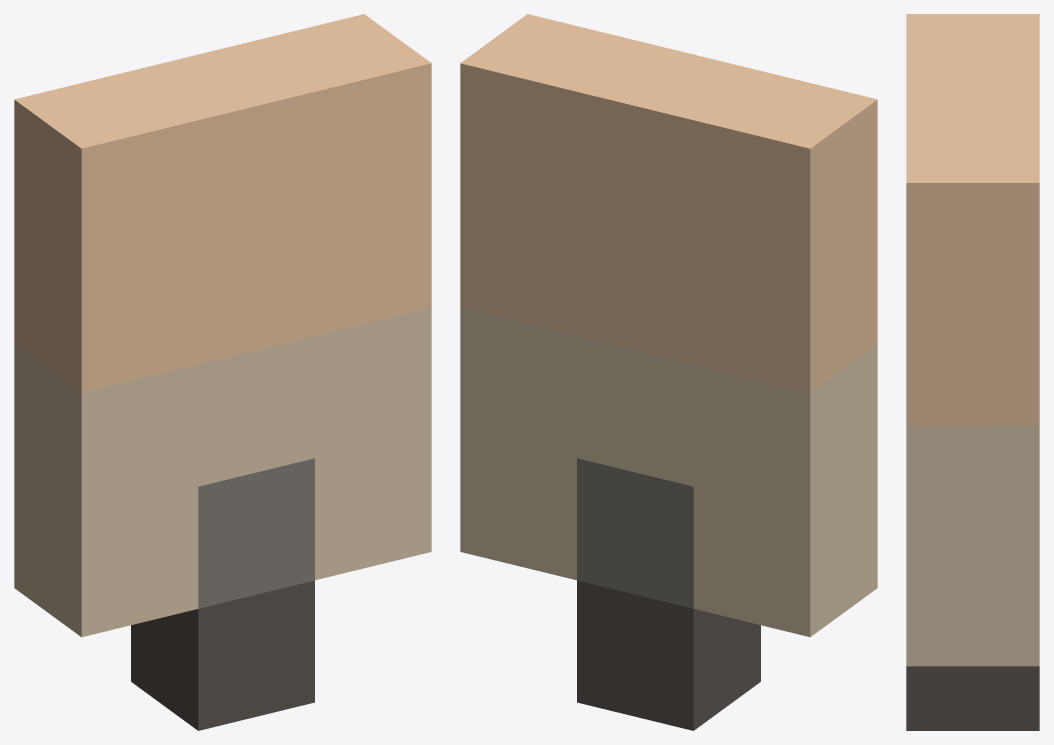
File: villager.lod2.glb
3 views of the same model, side by side, from view 1: azimuth 30°, elevation 25°; view 2: azimuth 150°, elevation 25°; view 3: azimuth 270°, elevation 25° (orthographic).
Parts seen in each view (by area): view 1: VX_villager_LOD2; view 2: VX_villager_LOD2; view 3: VX_villager_LOD2.
Boxes of the visible parts, box(x1,y1,x2,y2) form: VX_villager_LOD2: box(14, 14, 431, 730); VX_villager_LOD2: box(460, 14, 877, 730); VX_villager_LOD2: box(906, 14, 1039, 730).
Bounding box in the file's own units: 1.98 × 3.3 × 0.66.
